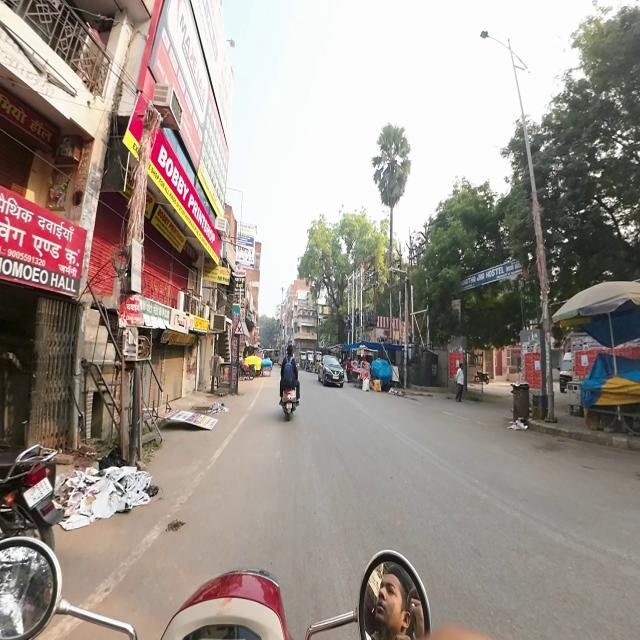Garbage: (99, 461, 150, 516), (60, 473, 102, 532), (511, 412, 526, 432)
